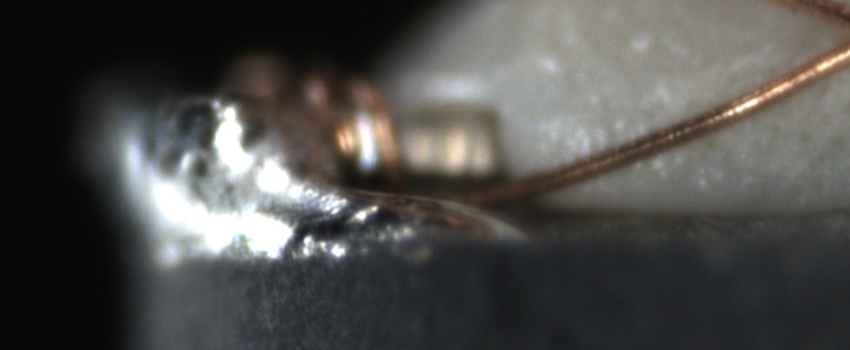TE: (300, 70, 425, 191)
